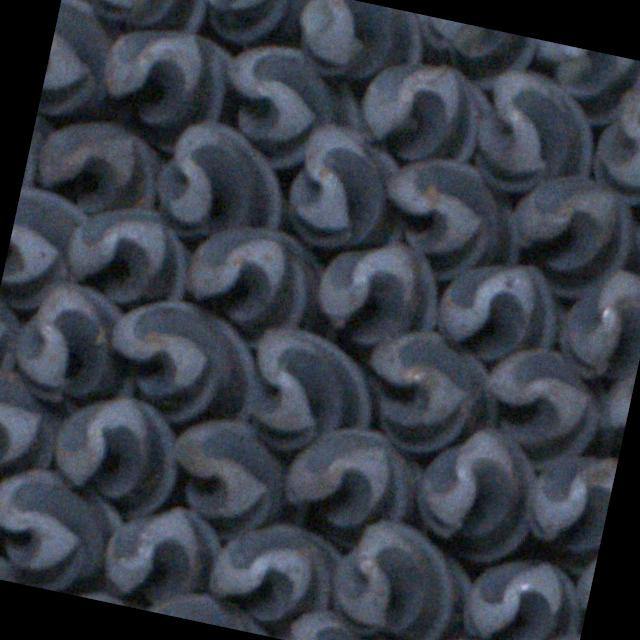tool_b: (100, 288, 268, 434), (206, 32, 368, 178), (370, 151, 532, 293), (351, 321, 506, 464), (406, 416, 550, 569), (234, 320, 388, 463), (146, 114, 297, 253), (174, 214, 326, 352), (496, 166, 640, 309), (3, 272, 149, 413), (462, 62, 606, 204), (318, 513, 477, 640), (282, 117, 422, 260), (471, 339, 614, 477), (274, 416, 426, 544), (44, 385, 190, 518), (305, 228, 450, 360), (156, 412, 294, 546), (95, 16, 241, 142), (0, 457, 128, 600), (426, 250, 568, 374), (205, 511, 346, 634), (348, 52, 491, 173), (58, 197, 200, 316), (30, 110, 169, 224), (97, 492, 226, 610), (518, 440, 618, 570), (450, 548, 589, 640), (288, 0, 427, 90), (396, 11, 536, 96), (516, 37, 640, 131), (0, 184, 88, 316), (552, 262, 640, 387), (37, 0, 120, 125), (137, 582, 280, 637), (0, 368, 68, 481), (191, 0, 318, 56), (586, 81, 640, 212), (588, 352, 640, 472), (67, 0, 213, 38), (271, 602, 408, 640), (0, 281, 28, 396), (0, 546, 46, 588), (625, 178, 640, 293), (58, 0, 94, 19)
